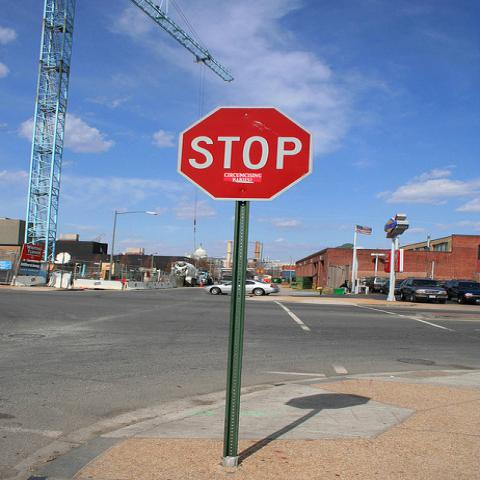car: (399, 277, 448, 304), (205, 279, 281, 296), (380, 279, 406, 295), (369, 278, 390, 292), (438, 280, 449, 288), (272, 278, 283, 284)
truck: (441, 281, 479, 305), (174, 261, 204, 287), (218, 276, 232, 285)
